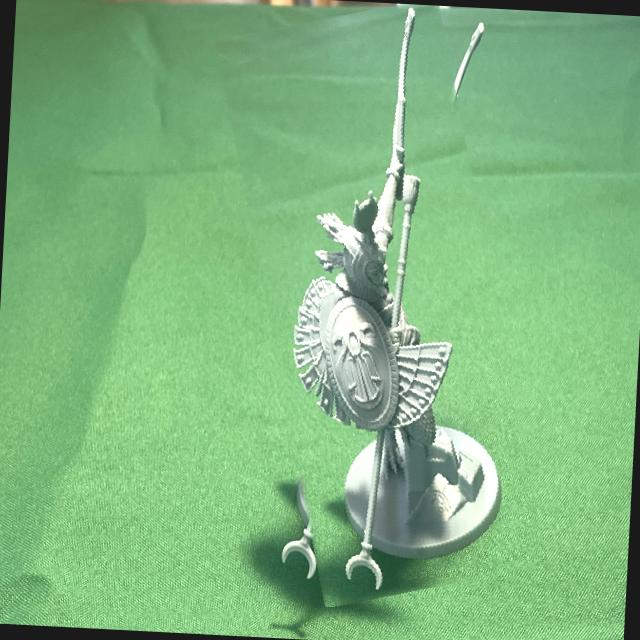isis: (218, 0, 543, 607)
